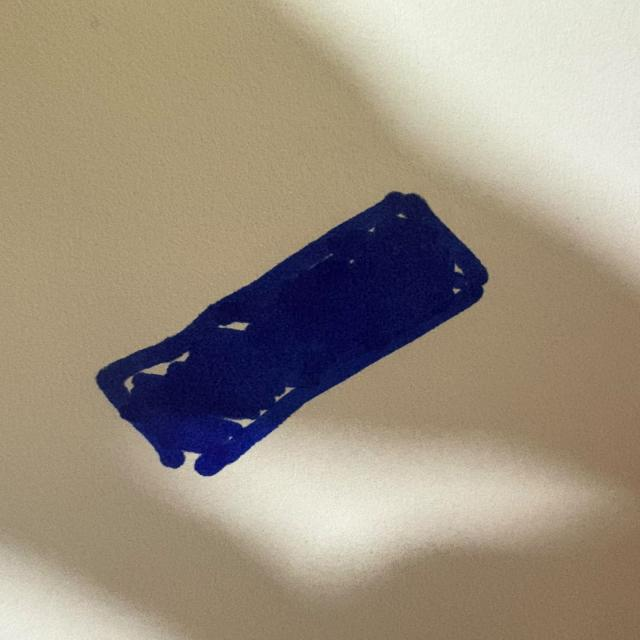Rectangle: (97, 192, 488, 476)
